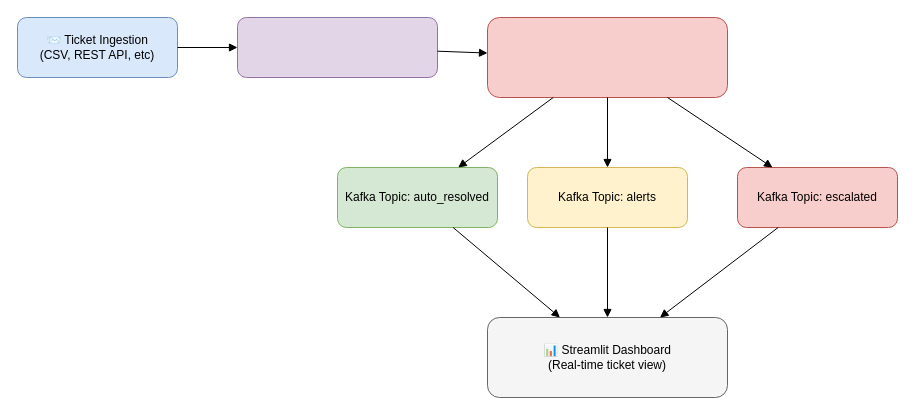
This 915x415 diagram has some shape labels left out. Here are the shapes that lost their labels. From the top down, the centre of each, then its label:
[337,47]: Kafka Topic: incoming_support
[607,57]: Kafka Consumer + LLM Inference (llm_worker.py + FastAPI)
